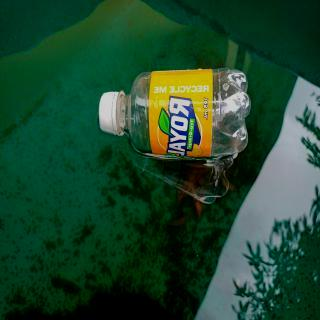bottle: (96, 62, 253, 162)
